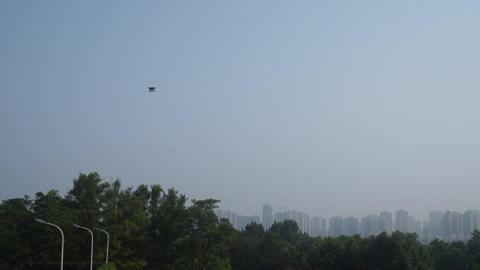UAV: (148, 86, 156, 93)
